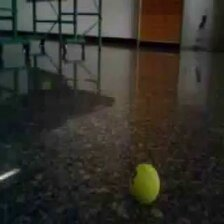tennis: (128, 164, 161, 204)
